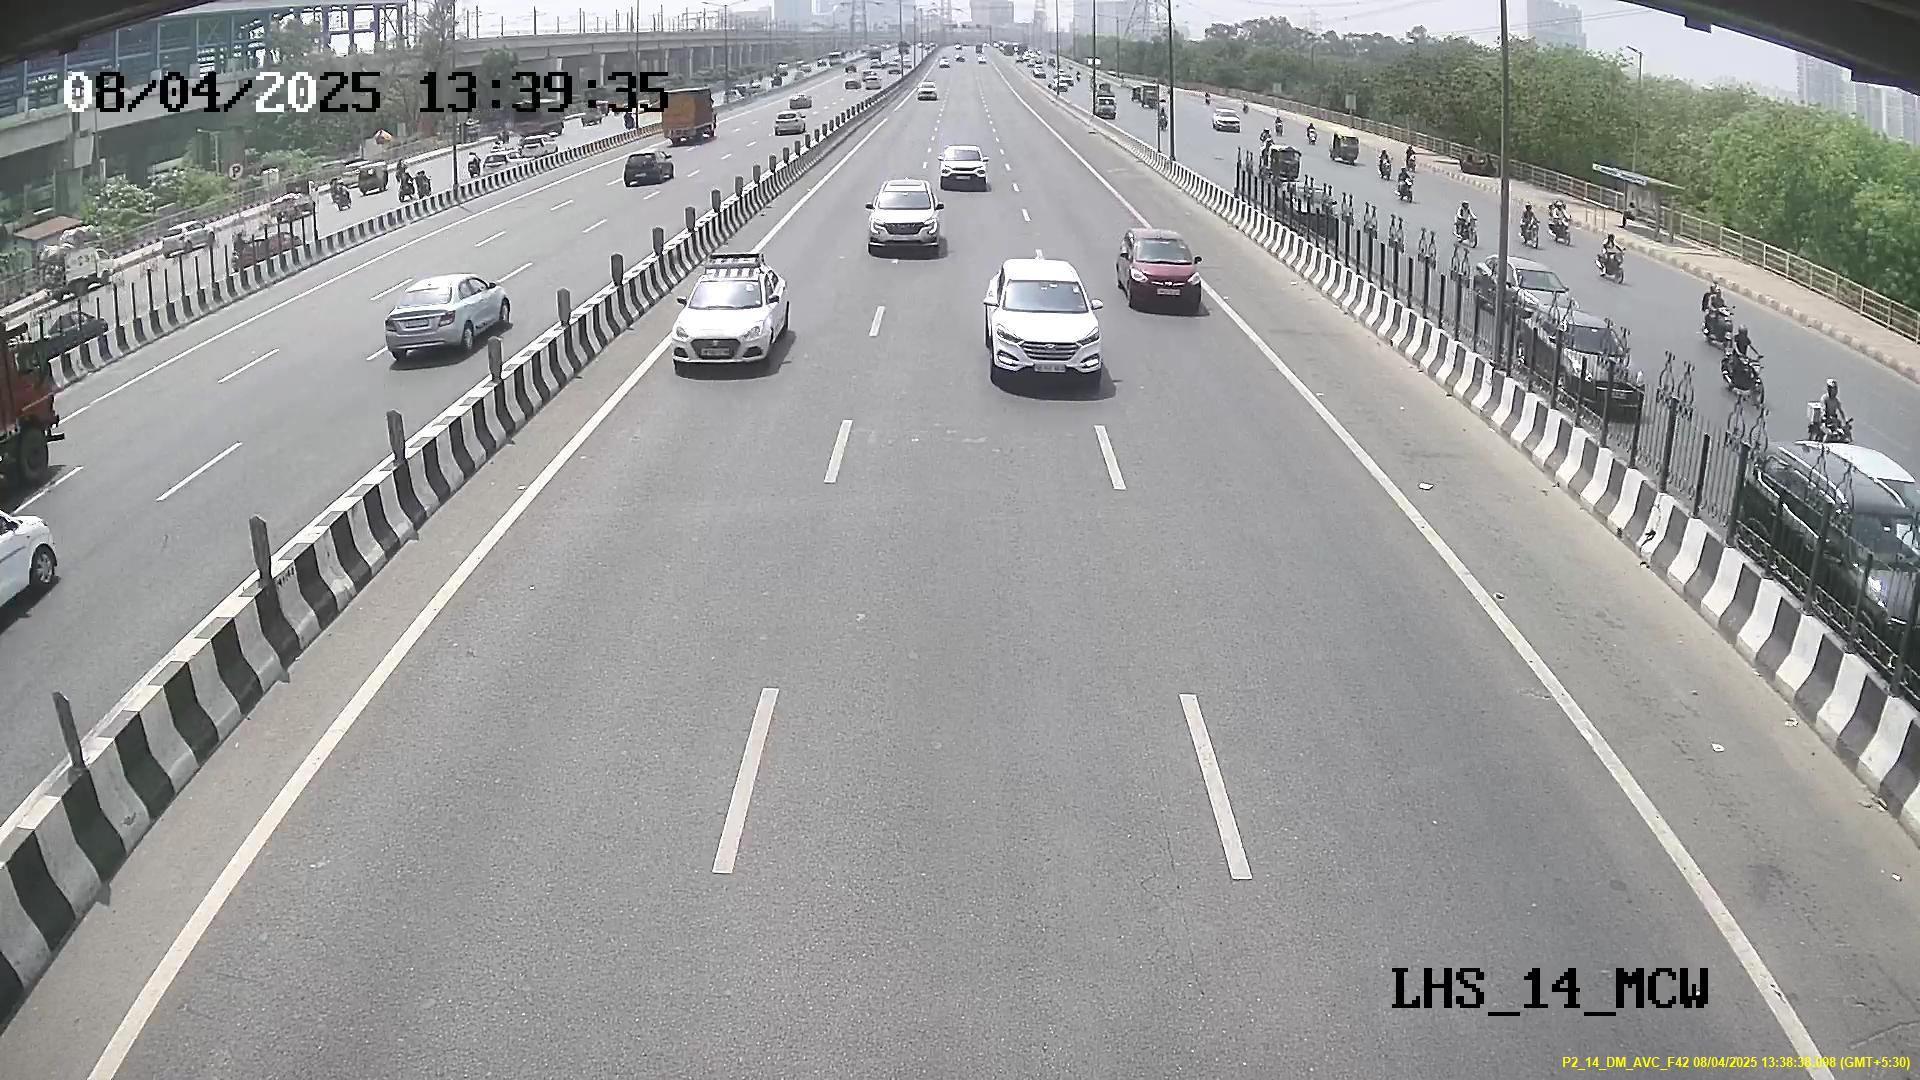car: (984, 268, 1110, 390), (667, 268, 781, 378), (1126, 229, 1205, 313), (866, 179, 943, 260)
